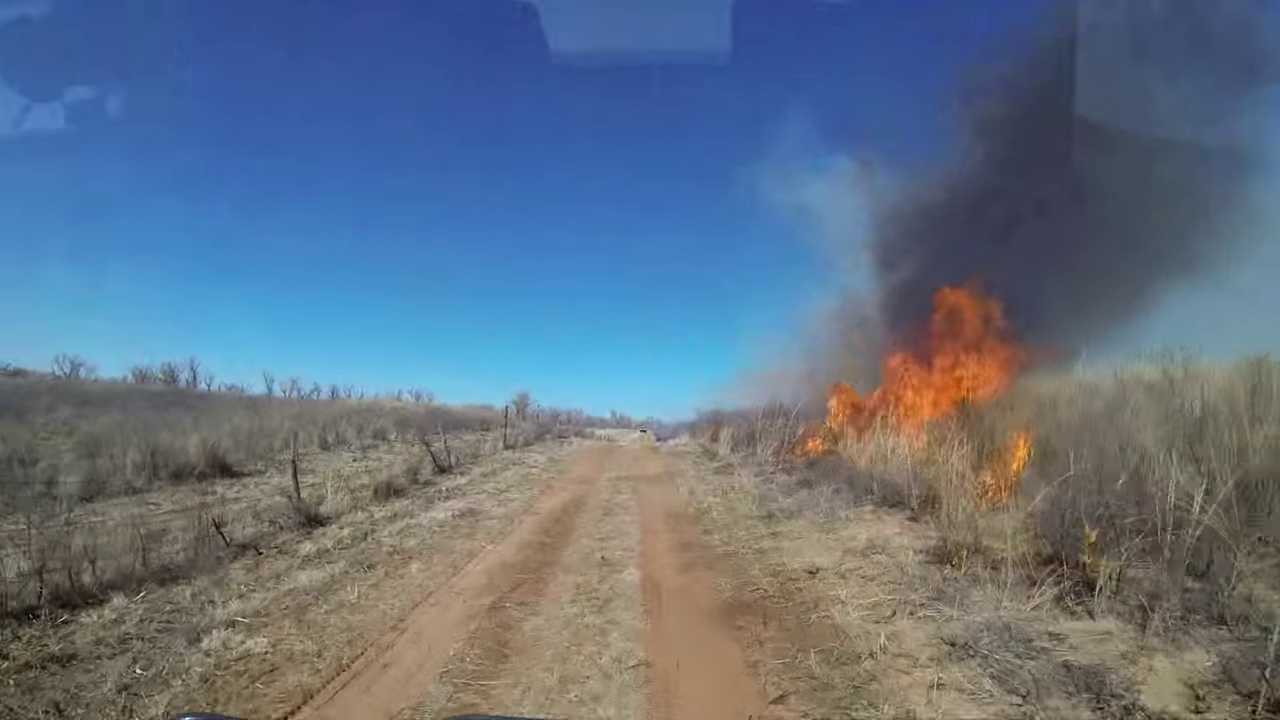forest_fire: (805, 286, 1028, 453), (991, 433, 1029, 499)
